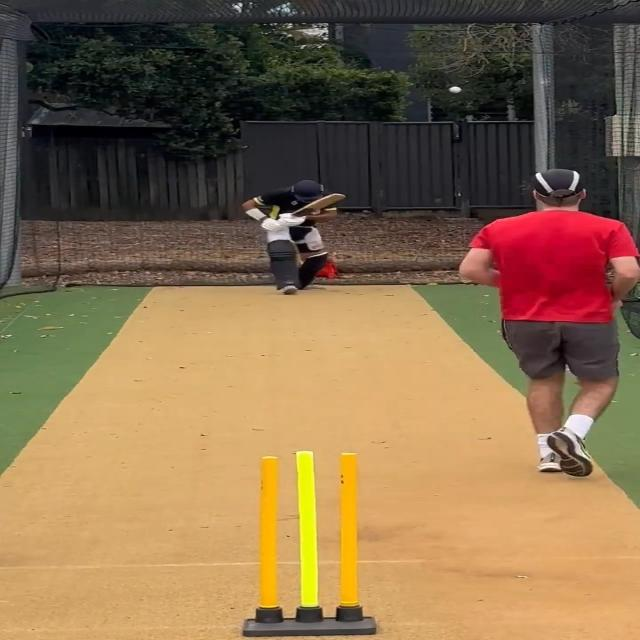ball: (448, 86, 462, 94)
stump: (244, 452, 376, 636)
